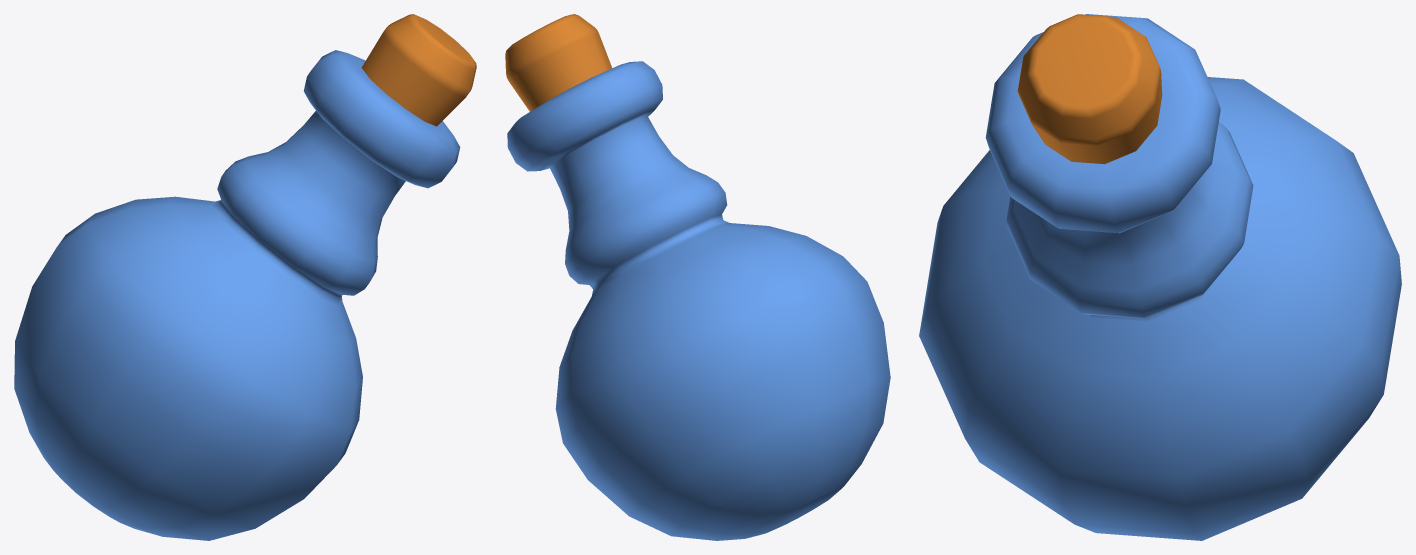
The picture shows the model from 3 angles, left to right: view 1: azimuth 30°, elevation 25°; view 2: azimuth 150°, elevation 25°; view 3: azimuth 270°, elevation 25°; orthographic projection. The views are drawn at different scales.
Parts seen in each view (by area): view 1: model_1.123; view 2: model_1.123; view 3: model_1.123.
Boxes of the visible parts, <box> form: model_1.123: <box>14,14,476,540</box>; model_1.123: <box>505,14,890,540</box>; model_1.123: <box>919,14,1401,540</box>.
Size of the model in its own units: 3.88 by 4.32 by 3.01.
